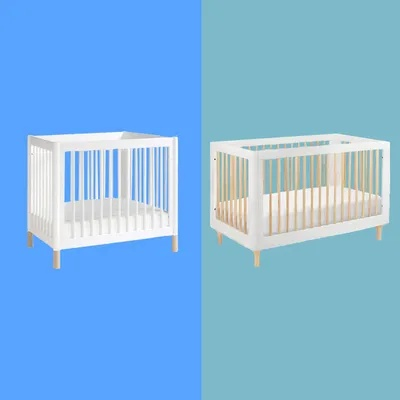crib: (210, 134, 389, 265), (28, 132, 177, 267)
